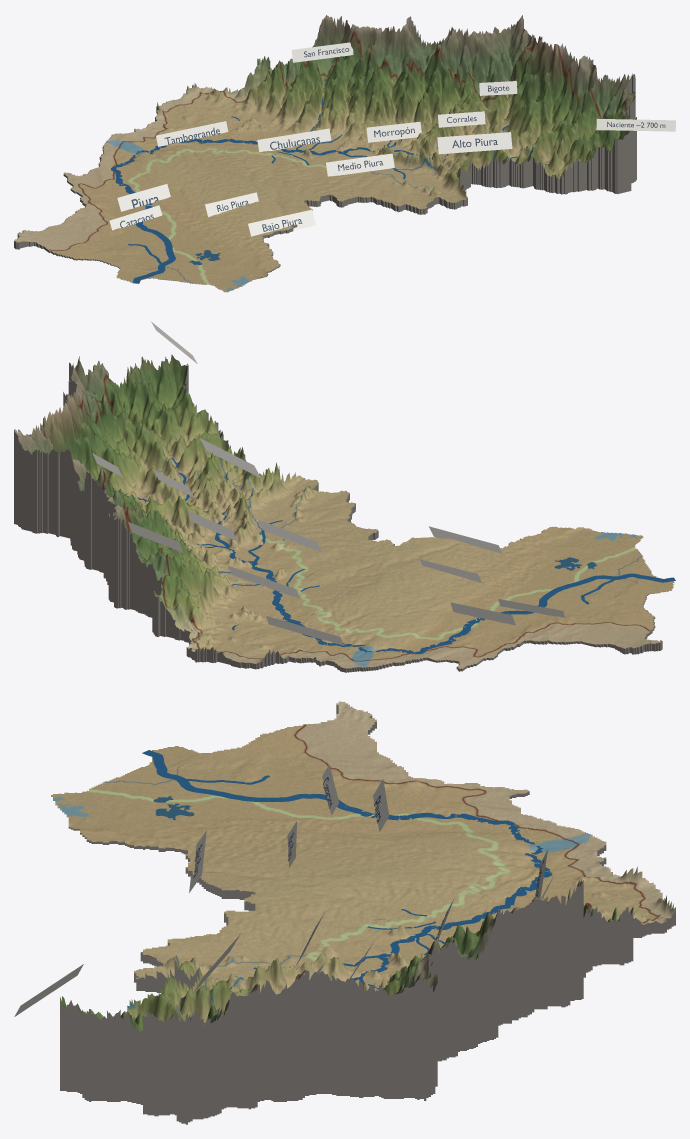
Rendered from piura-cuenca.glb.
The picture shows the model from 3 angles, top to bottom: view 1: azimuth 30°, elevation 25°; view 2: azimuth 150°, elevation 25°; view 3: azimuth 270°, elevation 25°; orthographic projection. The views are drawn at different scales.
Visible parts, largest first — view 1: GEO-Cuenca, GEO-Corte, GEO-Rios, GEO-Etiqueta-Alto_Piura-placa, GEO-Etiqueta-Medio_Piura-placa, GEO-Etiqueta-Chulucanas-placa, GEO-Etiqueta-Naciente_~2_700_m-placa, GEO-Etiqueta-Bajo_Piura-placa, GEO-Etiqueta-Tambogrande-placa, GEO-Etiqueta-Morropón-placa, GEO-Etiqueta-San_Francisco-placa, GEO-Etiqueta-Piura-placa (+4 smaller); view 2: GEO-Cuenca, GEO-Corte, GEO-Rios, GEO-Etiqueta-Tambogrande-placa, GEO-Etiqueta-Piura-placa, GEO-Etiqueta-Chulucanas-placa, GEO-Etiqueta-Bajo_Piura-placa, GEO-Etiqueta-Medio_Piura-placa, GEO-Etiqueta-Alto_Piura-placa, GEO-Etiqueta-San_Francisco-placa; view 3: GEO-Cuenca, GEO-Corte, GEO-Rios.
Boxes of the visible parts, box(x1,y1,x2,y2) form: GEO-Cuenca: box(14, 15, 636, 292); GEO-Corte: box(14, 15, 636, 291); GEO-Rios: box(111, 78, 548, 283); GEO-Etiqueta-Alto_Piura-placa: box(437, 132, 512, 154); GEO-Etiqueta-Medio_Piura-placa: box(326, 153, 394, 176); GEO-Etiqueta-Chulucanas-placa: box(257, 128, 331, 151); GEO-Etiqueta-Naciente_~2_700_m-placa: box(596, 118, 675, 131); GEO-Etiqueta-Bajo_Piura-placa: box(248, 209, 315, 236); GEO-Etiqueta-Tambogrande-placa: box(156, 121, 228, 146); GEO-Etiqueta-Morropón-placa: box(366, 121, 421, 142); GEO-Etiqueta-San_Francisco-placa: box(291, 42, 353, 62); GEO-Etiqueta-Piura-placa: box(117, 184, 170, 211); GEO-Cuenca: box(14, 354, 674, 668); GEO-Corte: box(14, 356, 662, 672); GEO-Rios: box(138, 455, 675, 654); GEO-Etiqueta-Tambogrande-placa: box(266, 616, 343, 645); GEO-Etiqueta-Piura-placa: box(450, 602, 515, 625); GEO-Etiqueta-Chulucanas-placa: box(228, 566, 299, 598); GEO-Etiqueta-Bajo_Piura-placa: box(429, 526, 502, 553); GEO-Etiqueta-Medio_Piura-placa: box(257, 519, 321, 552); GEO-Etiqueta-Alto_Piura-placa: box(199, 438, 260, 478); GEO-Etiqueta-San_Francisco-placa: box(128, 522, 183, 552); GEO-Cuenca: box(51, 701, 675, 1032); GEO-Corte: box(55, 704, 675, 1124); GEO-Rios: box(142, 750, 552, 988).
Size of the model in its own units: 173761 by 26822 by 117953.
6 materials, 1 textured.
